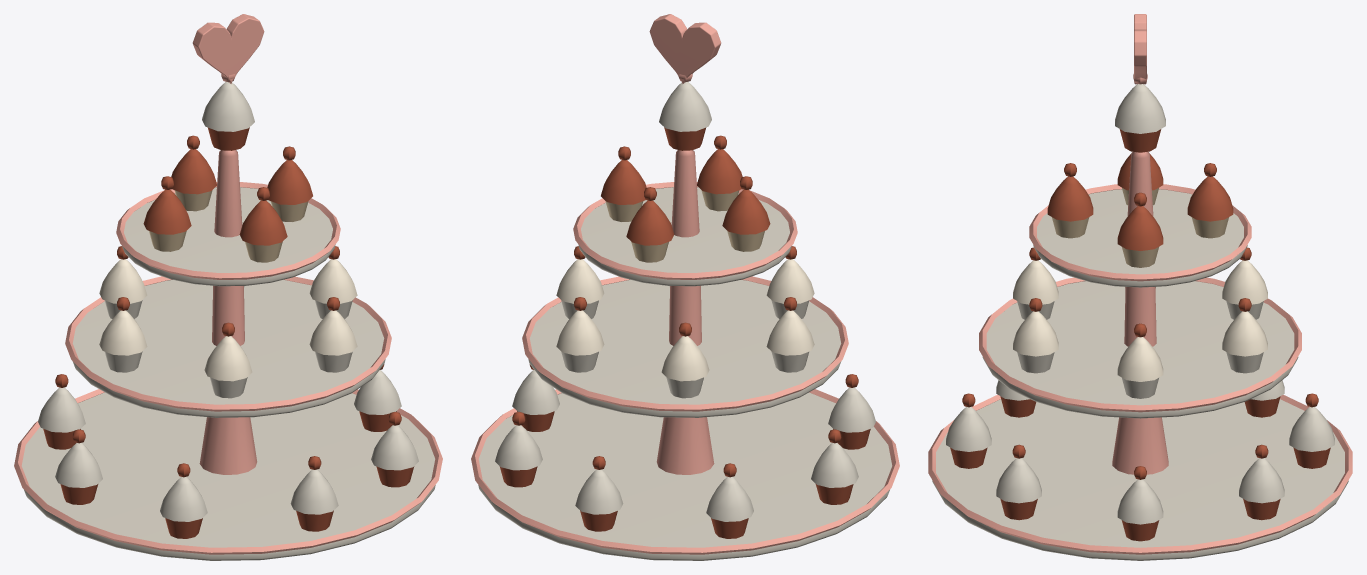
The model's file is cupcake_tower.glb.
3 views of the same model, side by side, from view 1: azimuth 30°, elevation 25°; view 2: azimuth 150°, elevation 25°; view 3: azimuth 270°, elevation 25° (orthographic).
Visible parts, largest first — view 1: cupcake_tower; view 2: cupcake_tower; view 3: cupcake_tower.
Boxes of the visible parts, <box> form: cupcake_tower: <box>14,14,442,560</box>; cupcake_tower: <box>471,14,899,560</box>; cupcake_tower: <box>928,14,1352,560</box>.
Size of the model in its own units: 0.672 by 0.8336 by 0.6671.
